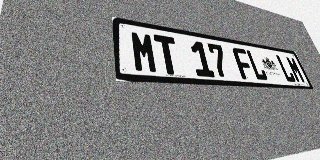1: (188, 40, 215, 77)
7: (206, 43, 232, 78)
F: (231, 47, 256, 80)
L: (245, 49, 269, 81), (275, 54, 297, 83)
M: (130, 30, 159, 74), (285, 56, 306, 83)
T: (153, 34, 181, 75)
